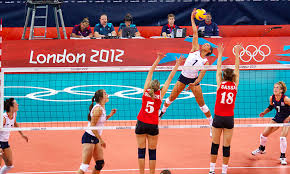ball: (193, 7, 207, 21)
